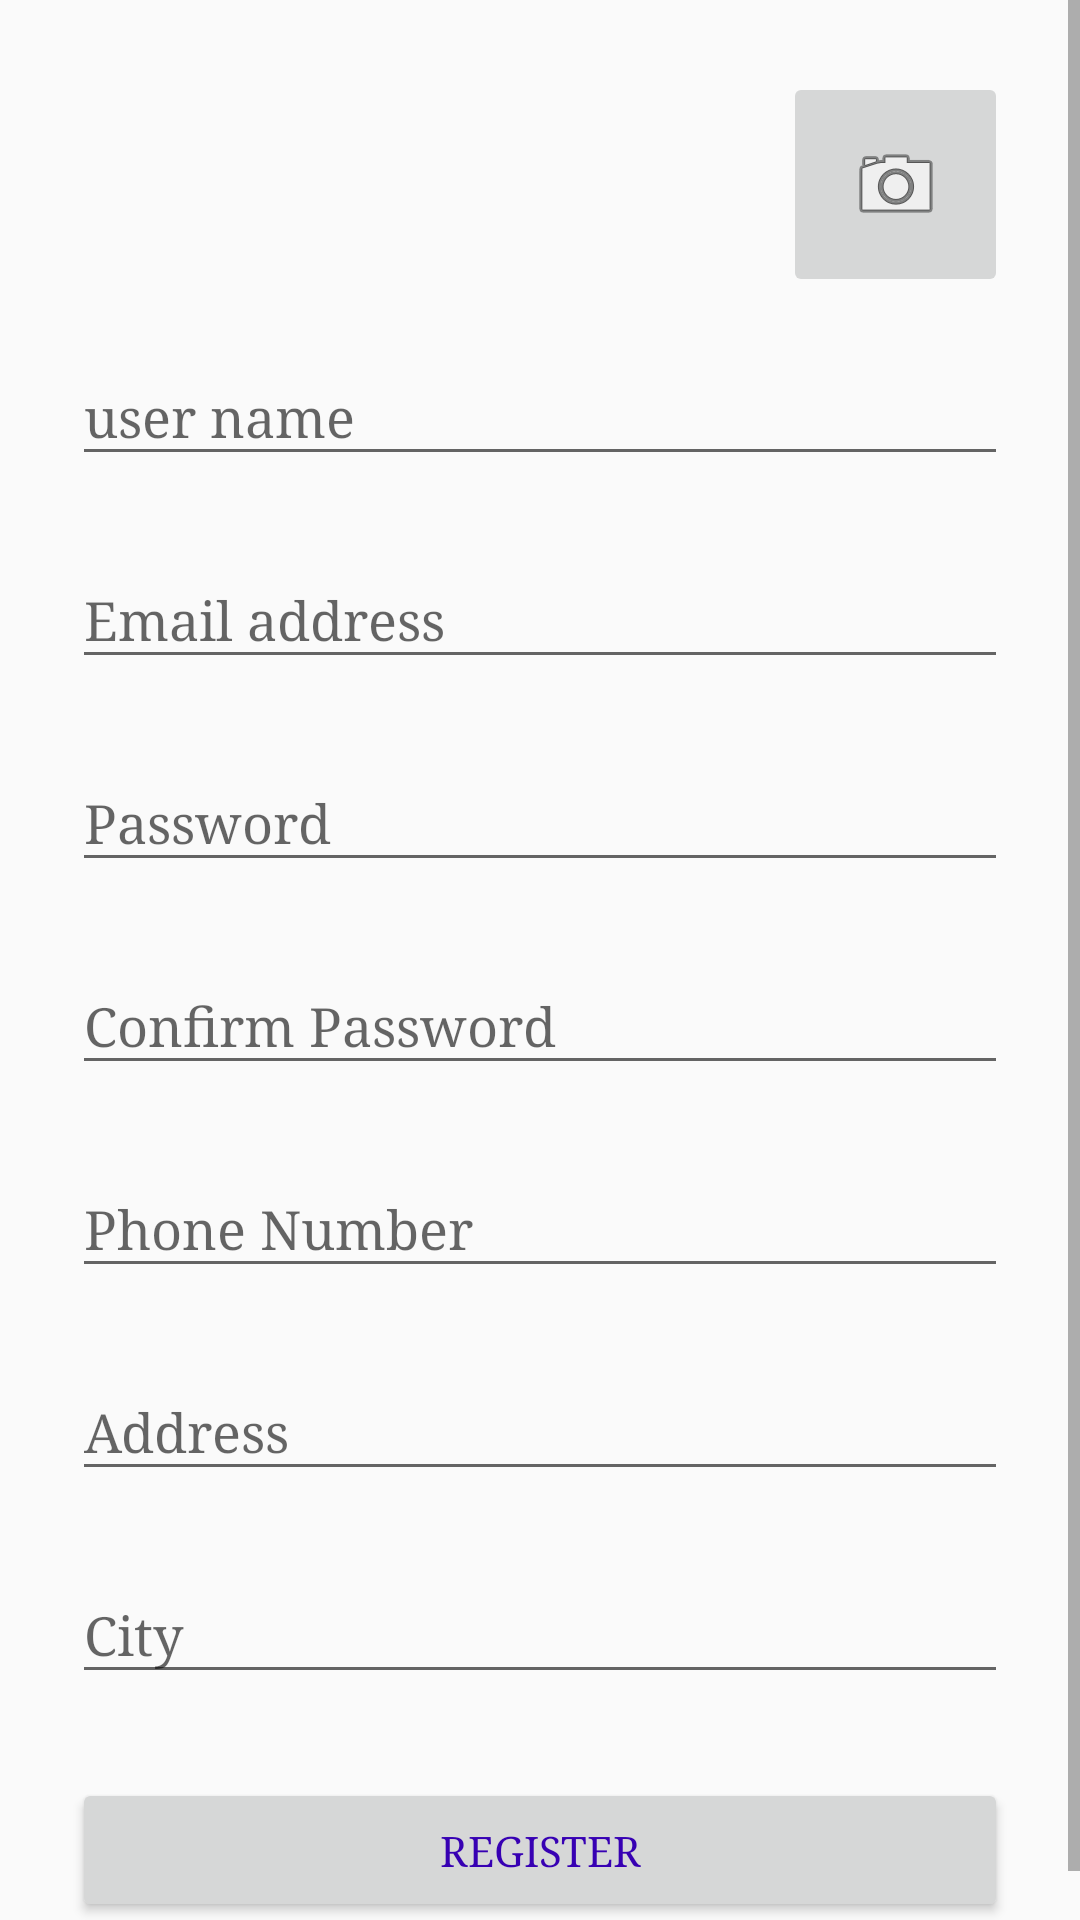

Named icons in this screenshot (1080px x 1920px) and their bounding boxes, detection(x1, y1, x2, y2):
camera: detection(795, 90, 996, 279)
